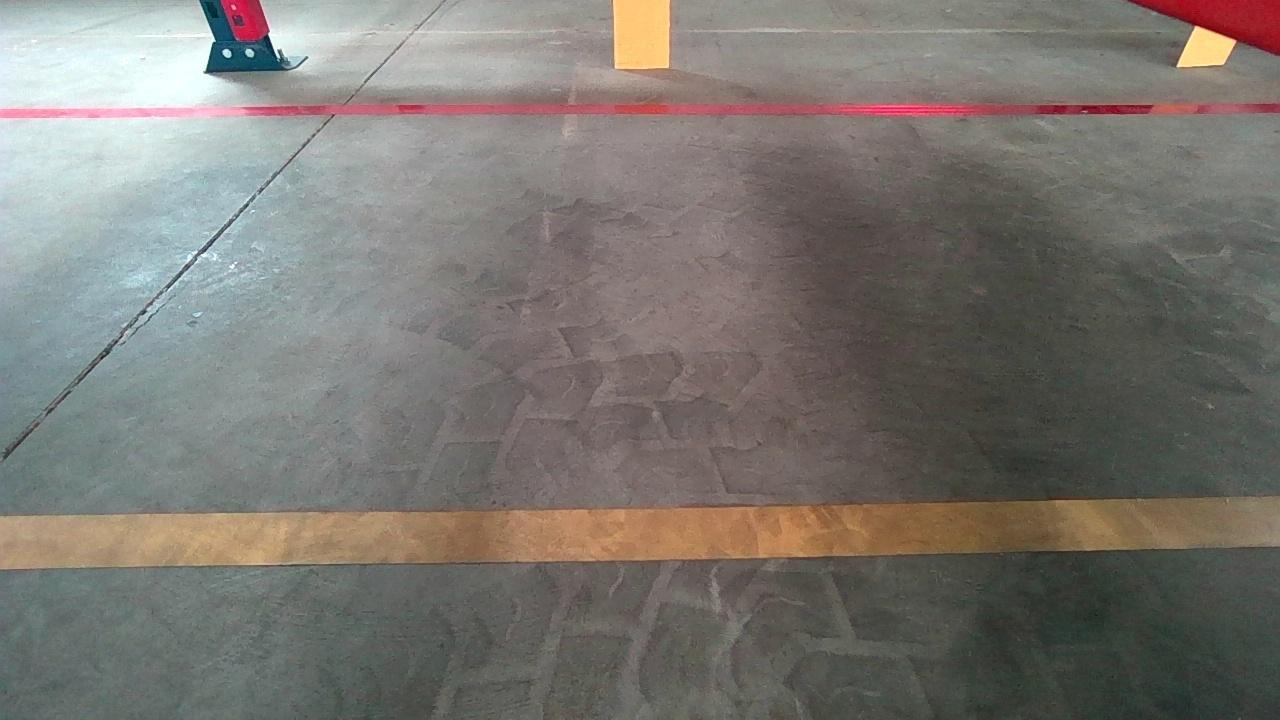orange_strip: (614, 0, 670, 69), (1176, 22, 1241, 67)
yellow_line: (0, 495, 1278, 570)
